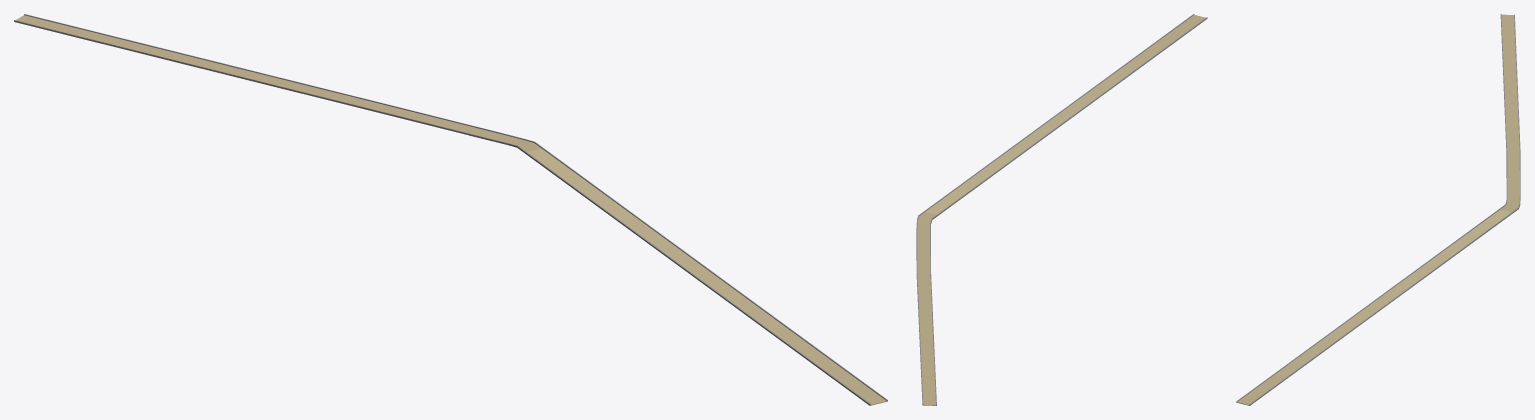
File: sidewalk_02.fbx
The picture shows the model from 3 angles, left to right: view 1: azimuth 30°, elevation 25°; view 2: azimuth 150°, elevation 25°; view 3: azimuth 330°, elevation 25°; orthographic projection. The views are drawn at different scales.
Parts seen in each view (by area): view 1: sidewalk_01; view 2: sidewalk_01; view 3: sidewalk_01.
Boxes of the visible parts, left/top/right/bottom form: sidewalk_01: left=14, top=14, right=887, bottom=405; sidewalk_01: left=916, top=14, right=1207, bottom=405; sidewalk_01: left=1236, top=14, right=1520, bottom=405.
Size of the model in its own units: 4.95 by 0.138 by 19.05.
Materials: 1 (1 with a texture image).
